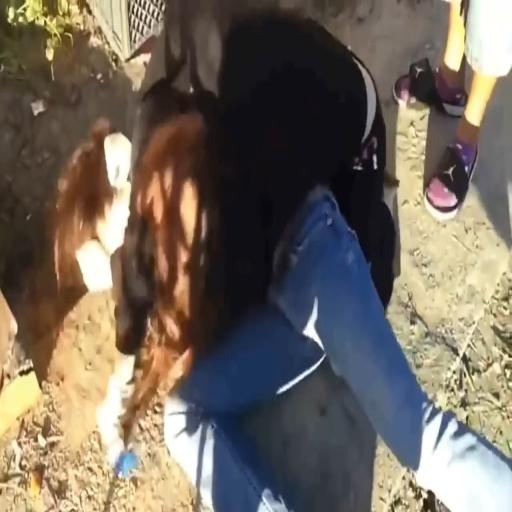violencia: (22, 0, 414, 512)
